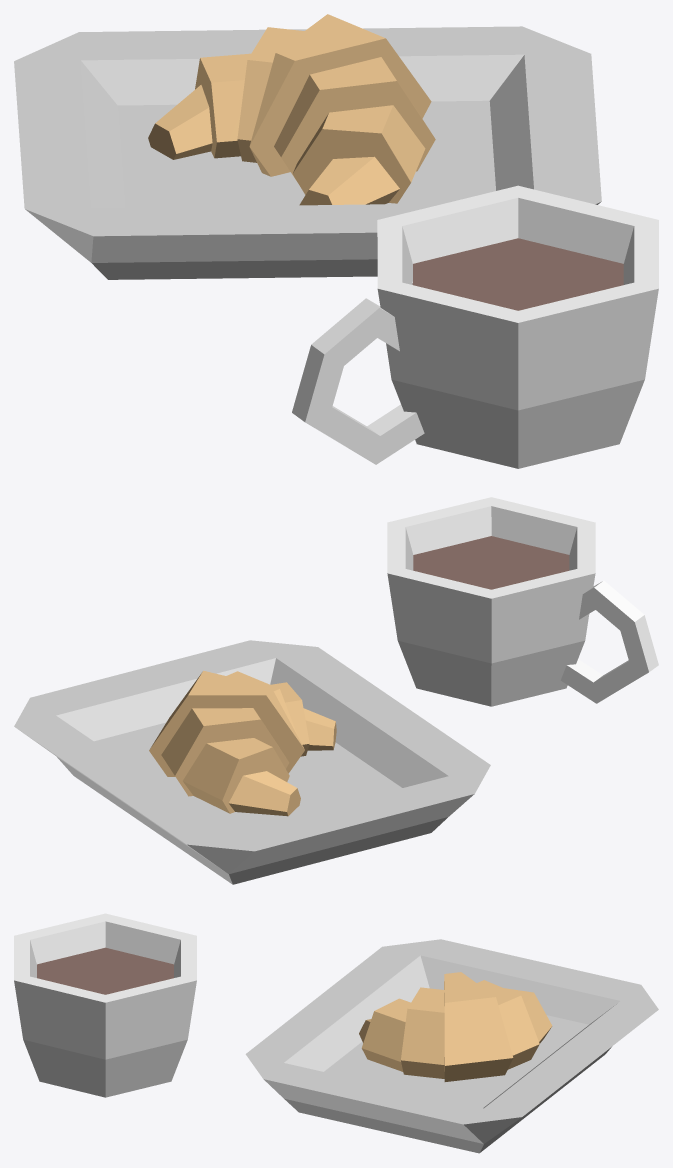
File: food.glb
3 renders of one model, top to bottom at view 1: azimuth 30°, elevation 25°; view 2: azimuth 150°, elevation 25°; view 3: azimuth 270°, elevation 25°, orthographic. The views are drawn at different scales.
Visible parts, largest first — view 1: plateRectangle, cupTea, croissant; view 2: plateRectangle, cupTea, croissant; view 3: plateRectangle, cupTea, croissant.
Part boxes in pixels (x1,y1,x2,y2): plateRectangle: [14, 26, 601, 279]; cupTea: [292, 185, 658, 468]; croissant: [148, 14, 435, 205]; plateRectangle: [14, 640, 490, 884]; cupTea: [387, 497, 658, 706]; croissant: [149, 670, 336, 816]; plateRectangle: [245, 939, 658, 1153]; cupTea: [14, 913, 196, 1097]; croissant: [359, 972, 552, 1081].
Bounding box in the file's own units: 0.1618 × 0.0449 × 0.2381.
